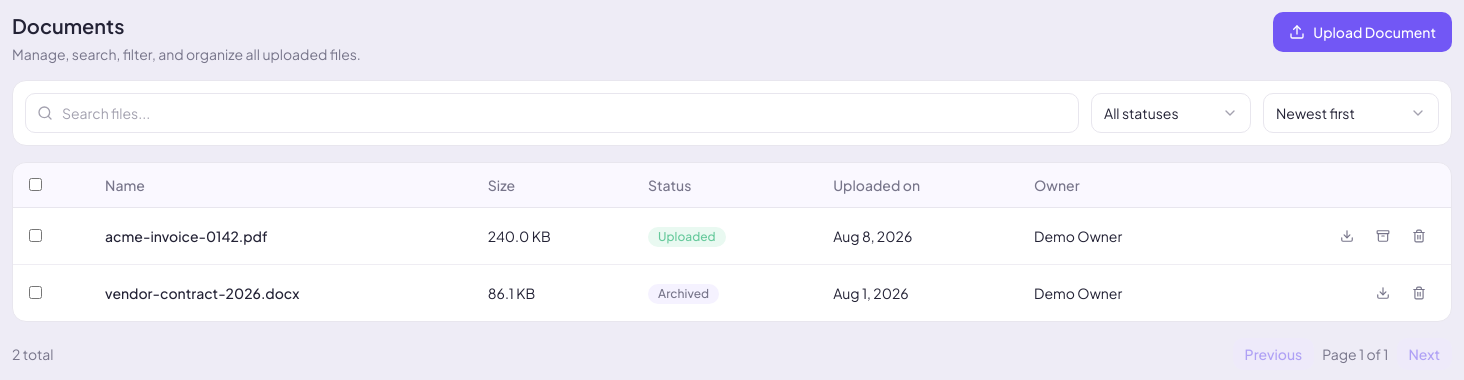
it: DocumentsPage — search and filters › filters the list by status
Check: the text "acme-invoice-0142.pdf" is shown, box [89,208,472,264]
Click the dropdown labelled "All statuses". click: (1171, 113)
box: [1091,93,1251,133]
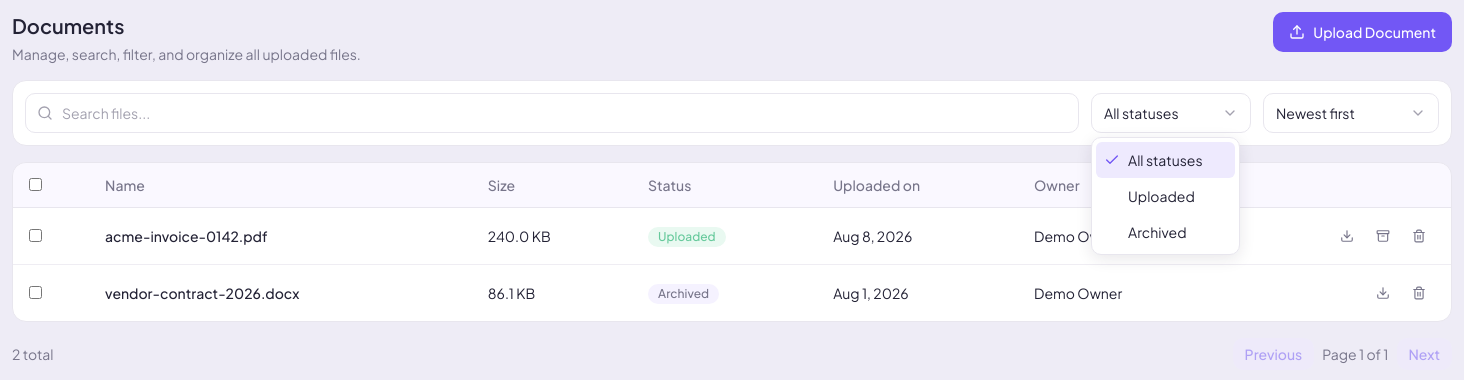
Click the option "Archived". click: (1157, 232)
box: [1128,223,1186,241]
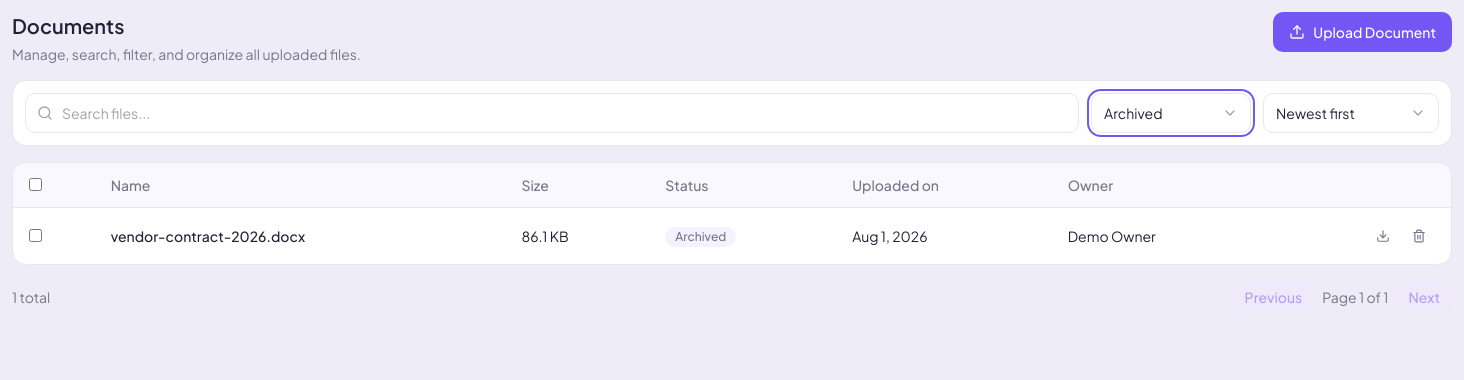
Check: the text "vendor-contract-2026.docx" is shown, box [95,208,505,264]
Check: the text "acme-invoice-0142.pdf" is gone
